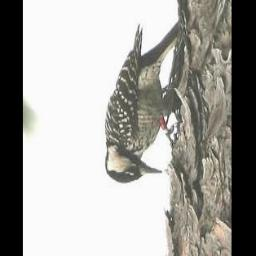Woodpecker: (104, 21, 185, 184)
